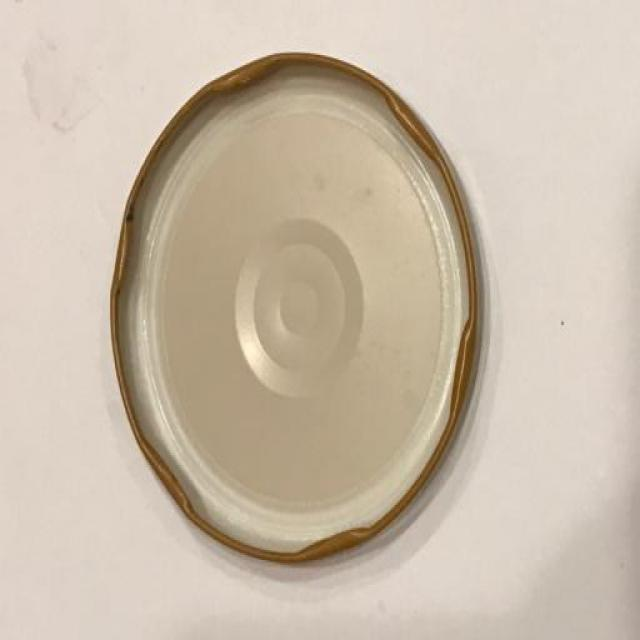metel: (91, 37, 532, 640)
